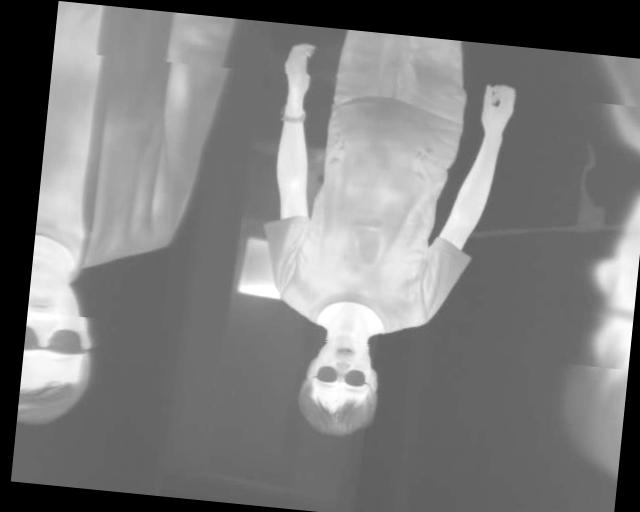face: (16, 266, 102, 433), (294, 327, 385, 441)
